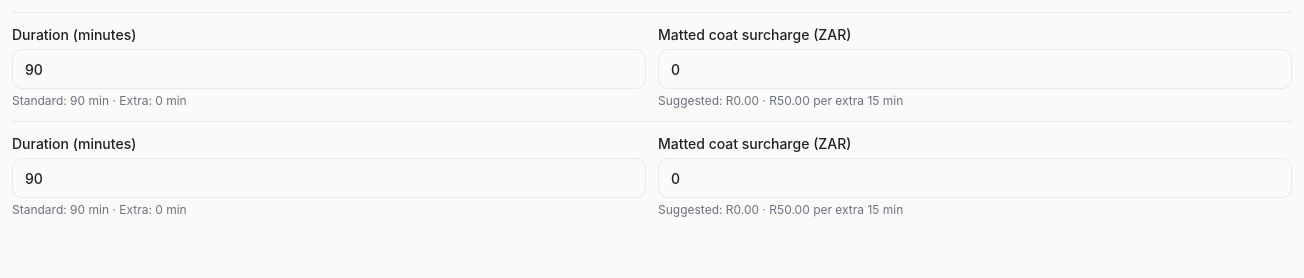
Test case: grooming duration controls › populates R200 for an extra hour on only the selected dog and accepts a custom charge
Replace the text in the number field named "Husky duration (minutes)" with "150" at (329, 69), box [12,49,646,89]
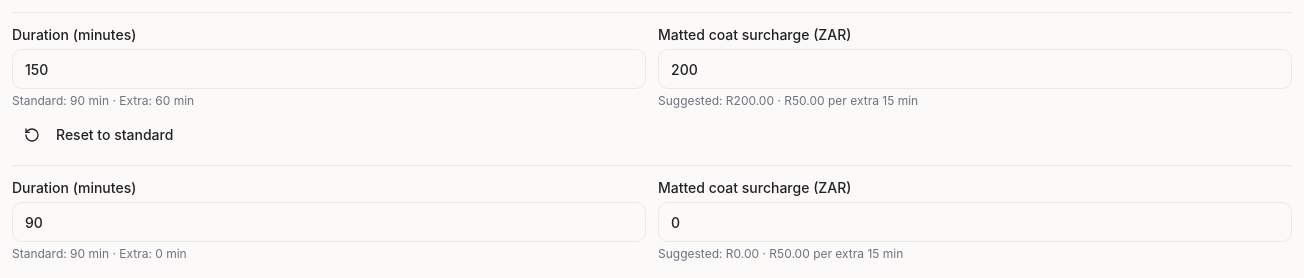
Expected: the number field named "Poodle duration (minutes)" holds "90", [12,202,646,242]
Result: the number field named "Husky matted coat surcharge (ZAR)" holds "200"
Replace the text in the number field named "Husky matted coat surcharge (ZAR)" with "175" at (975, 69), box [658,49,1292,89]
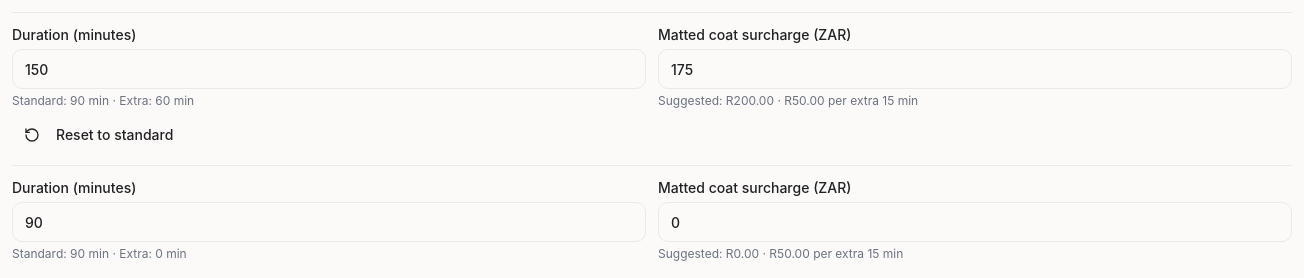
Replace the text in the number field named "Husky duration (minutes)" with "120" at (329, 69), box [12,49,646,89]
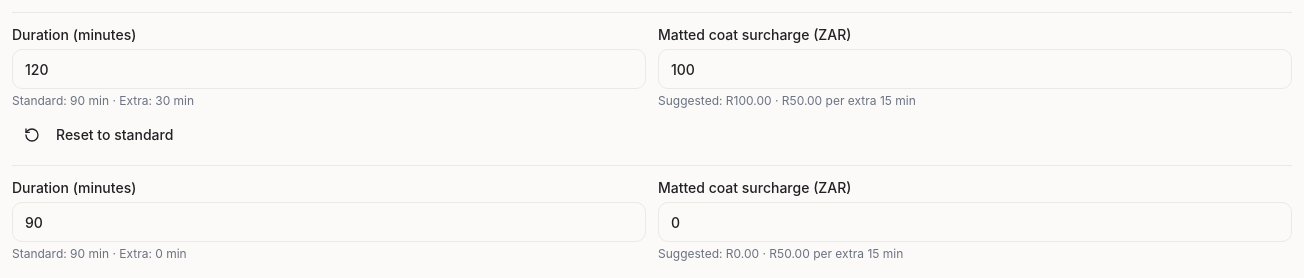
Result: the number field named "Husky matted coat surcharge (ZAR)" holds "100" at [658,49,1292,89]
Click the button "Reset to standard".
click(99, 135)  # box [12,117,185,153]
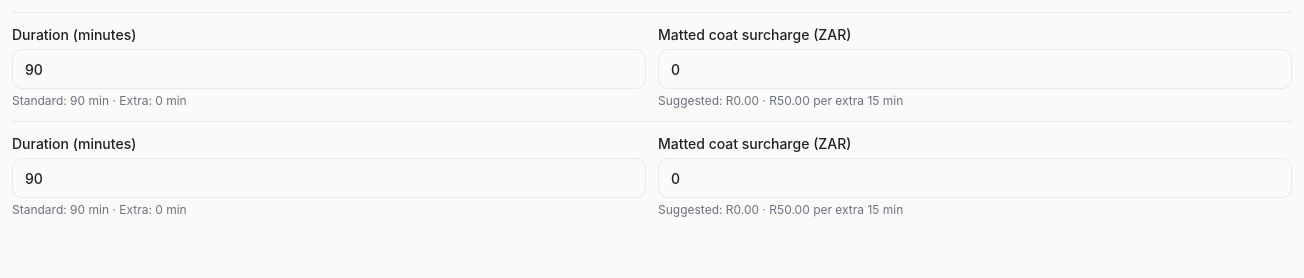
Result: the number field named "Husky duration (minutes)" holds "90" at [12,49,646,89]
Result: the number field named "Husky matted coat surcharge (ZAR)" holds "0" at [658,49,1292,89]
